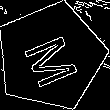M_NE: (18, 25, 84, 88)
